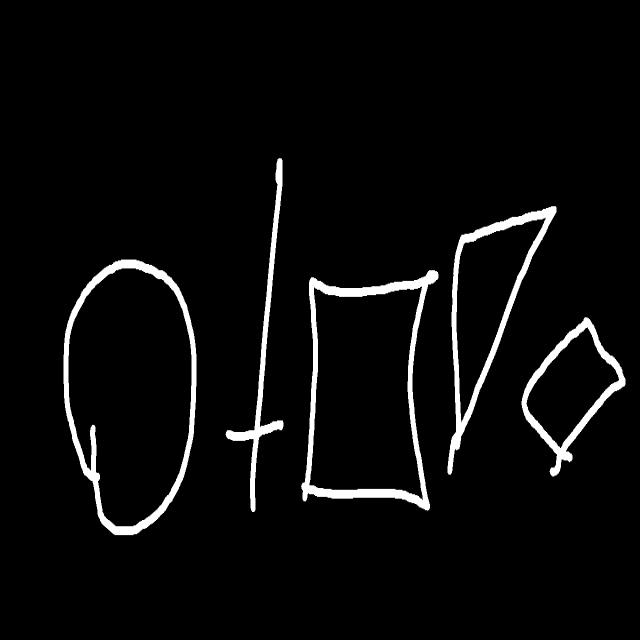Circle: (63, 260, 197, 535)
Cross: (226, 158, 284, 512)
Diamond: (521, 317, 626, 476)
Square: (301, 271, 438, 509)
Triangle: (448, 208, 556, 474)
